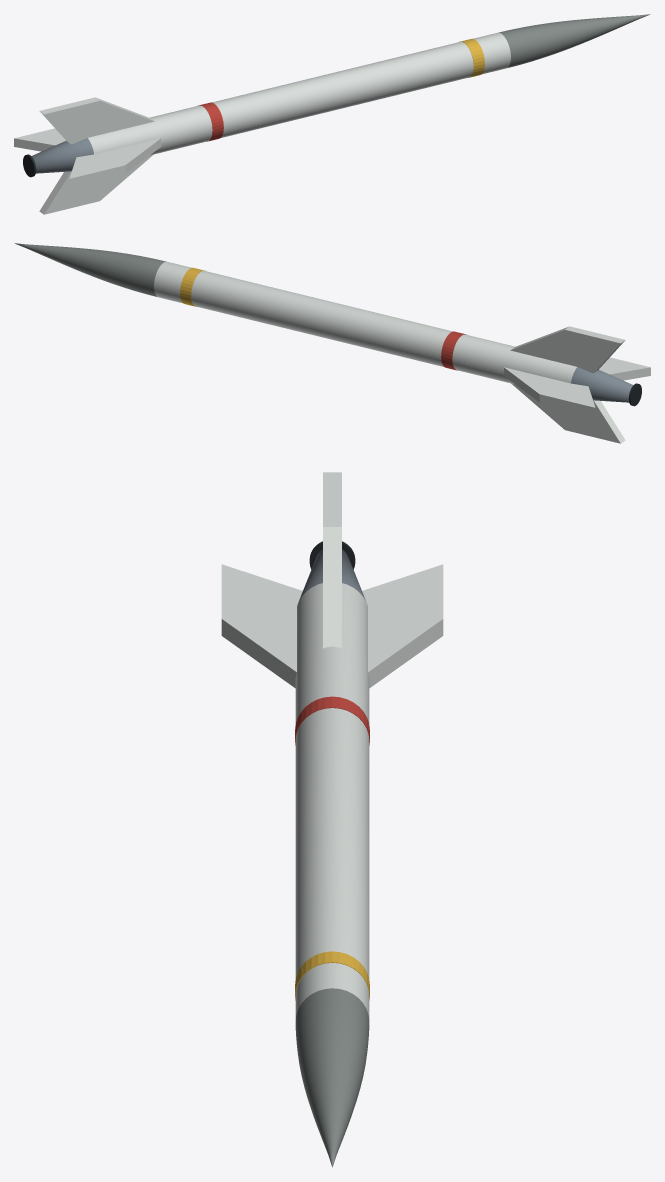
Rendered from mica_em.glb.
3 renders of one model, top to bottom at view 1: azimuth 30°, elevation 25°; view 2: azimuth 150°, elevation 25°; view 3: azimuth 270°, elevation 25°, orthographic. The views are drawn at different scales.
Visible parts, largest first — view 1: mica_em; view 2: mica_em; view 3: mica_em.
Boxes of the visible parts, x1,y1,x2,y2 form: mica_em: (14,14,650,214); mica_em: (14,243,650,443); mica_em: (221,472,443,1167).
Bounding box in the file's own units: 10 × 1.54 × 1.54.
